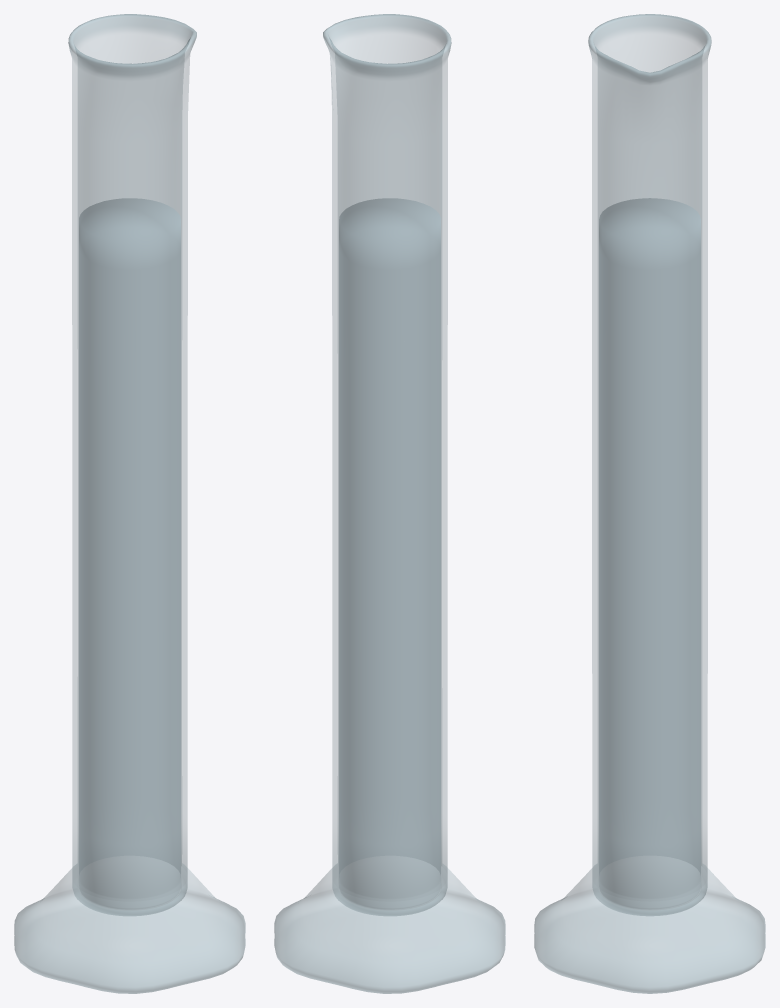
File: graduated-cylinder-100ml.glb
The picture shows the model from 3 angles, left to right: view 1: azimuth 30°, elevation 25°; view 2: azimuth 150°, elevation 25°; view 3: azimuth 270°, elevation 25°; orthographic projection.
Visible parts, largest first — view 1: graduated-cylinder-100ml-glass, graduated-cylinder-100ml-inner, graduated-cylinder-100ml-foot; view 2: graduated-cylinder-100ml-glass, graduated-cylinder-100ml-inner, graduated-cylinder-100ml-foot; view 3: graduated-cylinder-100ml-glass, graduated-cylinder-100ml-inner, graduated-cylinder-100ml-foot.
Boxes of the visible parts, x1,y1,x2,y2 form: graduated-cylinder-100ml-glass: [68, 14, 196, 915]; graduated-cylinder-100ml-inner: [79, 198, 180, 908]; graduated-cylinder-100ml-foot: [14, 864, 245, 993]; graduated-cylinder-100ml-glass: [323, 14, 451, 915]; graduated-cylinder-100ml-inner: [339, 198, 440, 908]; graduated-cylinder-100ml-foot: [274, 864, 505, 993]; graduated-cylinder-100ml-glass: [588, 14, 711, 915]; graduated-cylinder-100ml-inner: [599, 198, 700, 907]; graduated-cylinder-100ml-foot: [534, 864, 765, 993].
Size of what is drawn, in the model's own units: 6.19 by 25.09 by 5.8.
